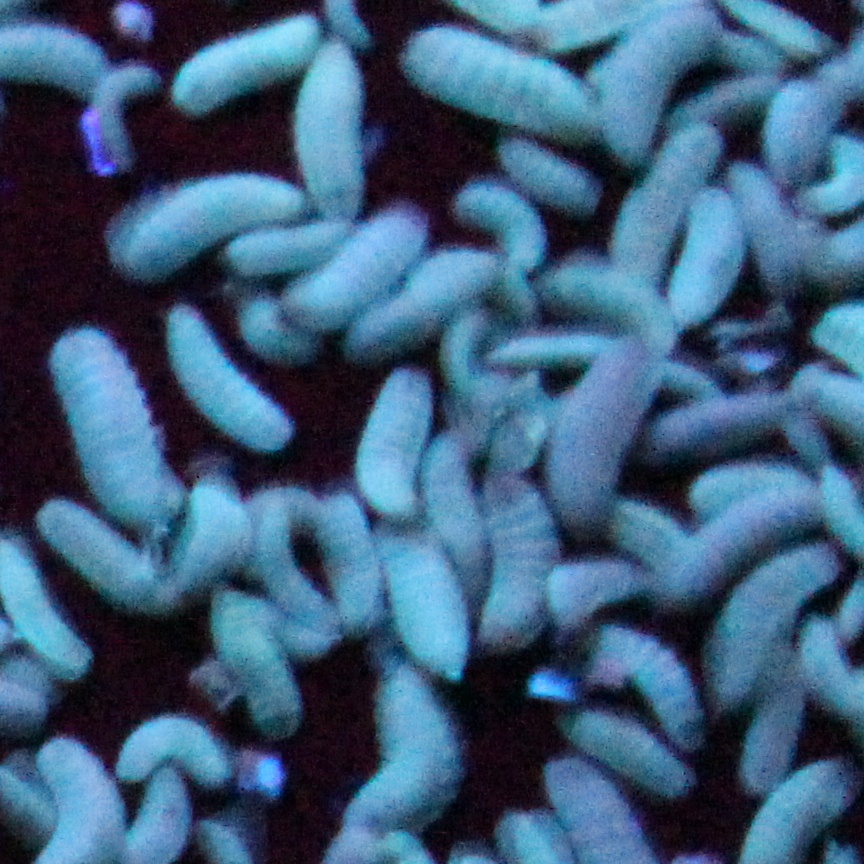larve: (51, 321, 173, 522), (108, 168, 288, 289), (402, 37, 592, 144), (162, 306, 300, 450), (344, 665, 466, 825), (716, 548, 840, 702), (553, 340, 657, 519), (665, 488, 821, 593), (604, 18, 718, 152), (304, 212, 428, 329), (199, 595, 306, 730), (185, 18, 323, 118), (473, 471, 547, 653), (300, 42, 370, 223), (547, 253, 669, 350), (558, 703, 684, 793), (389, 528, 466, 675), (650, 395, 786, 476), (371, 262, 496, 349), (351, 370, 423, 514), (45, 513, 158, 600), (736, 170, 806, 309), (608, 623, 705, 721), (753, 61, 838, 170), (723, 697, 811, 802), (457, 184, 556, 272), (416, 432, 485, 554), (315, 493, 374, 626), (553, 549, 659, 620), (499, 140, 600, 214), (682, 196, 733, 339), (251, 494, 311, 606), (184, 479, 236, 595), (118, 728, 226, 781), (493, 331, 616, 367), (809, 139, 858, 217)
